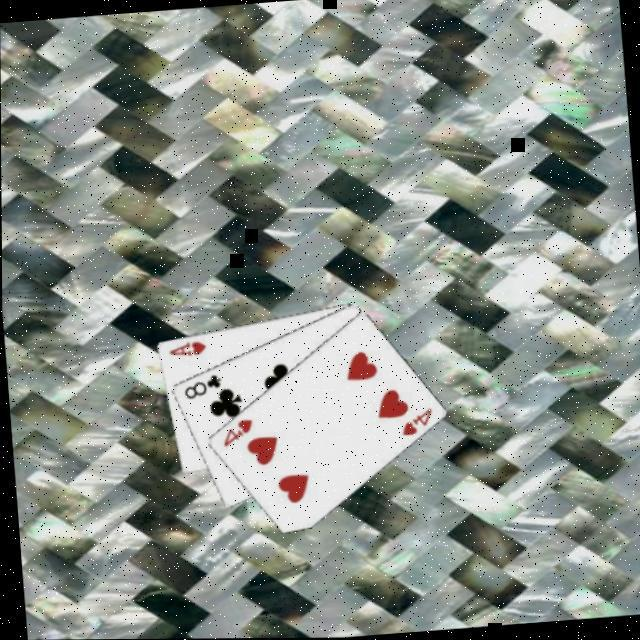4H: (214, 416, 253, 451), (394, 405, 433, 440)
8C: (176, 371, 222, 403)
AH: (163, 338, 206, 361)
